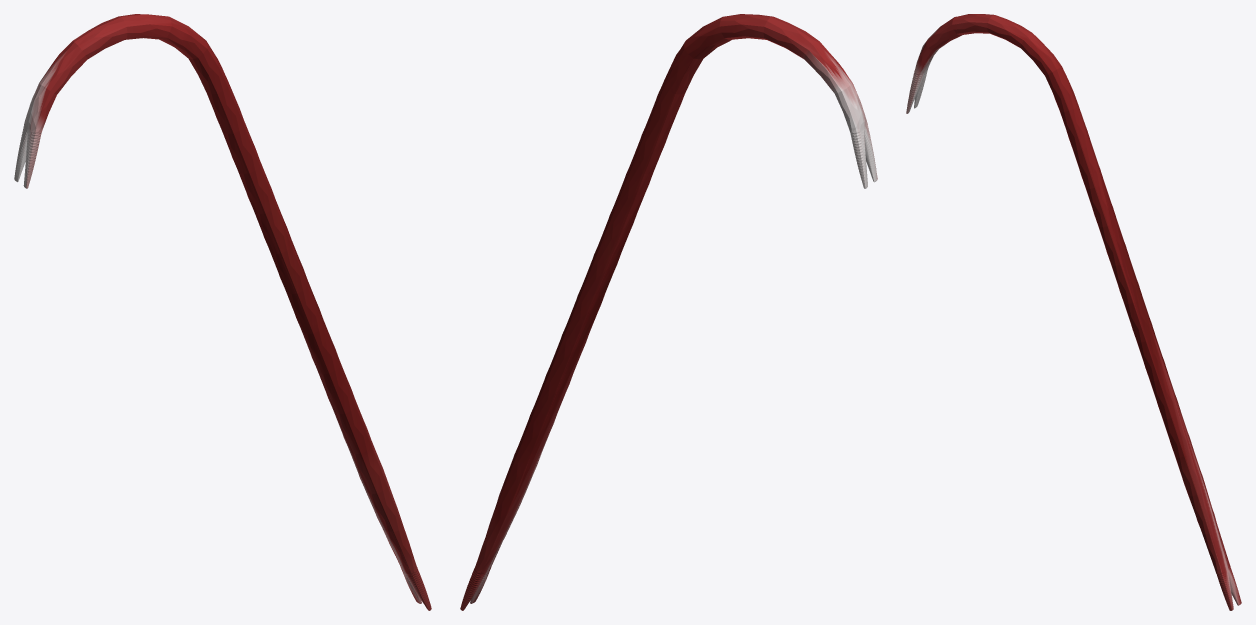
The model's file is crowbar.fbx.
The picture shows the model from 3 angles, left to right: view 1: azimuth 30°, elevation 25°; view 2: azimuth 150°, elevation 25°; view 3: azimuth 330°, elevation 25°; orthographic projection. The views are drawn at different scales.
Visible parts, largest first — view 1: Crowbar:Cylinder01; view 2: Crowbar:Cylinder01; view 3: Crowbar:Cylinder01.
Part boxes in pixels (x1,y1,x2,y2): Crowbar:Cylinder01: [14, 14, 431, 610]; Crowbar:Cylinder01: [460, 14, 877, 610]; Crowbar:Cylinder01: [906, 14, 1241, 610].
Bounding box in the file's own units: 8.77 × 13.72 × 0.4622.
1 material, 1 textured.
